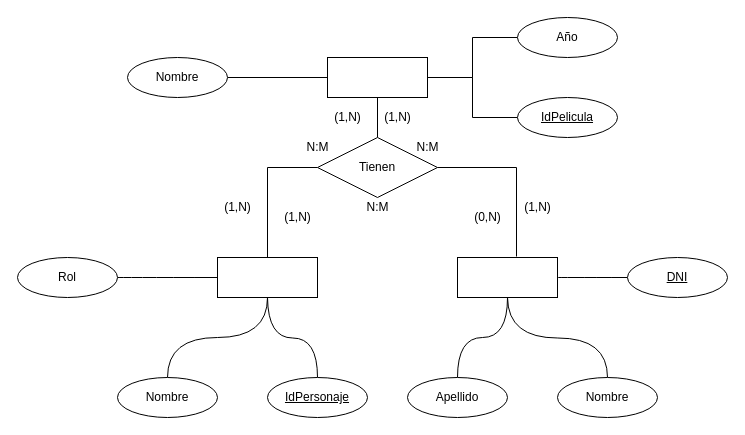
Image size: 745x435. Some labels were removed from this diagram. Each missing label, with the centre of its shape:
"Actores" goes at (x=507, y=277).
"Peliculas" goes at (x=377, y=77).
"Personajes" goes at (x=267, y=277).
